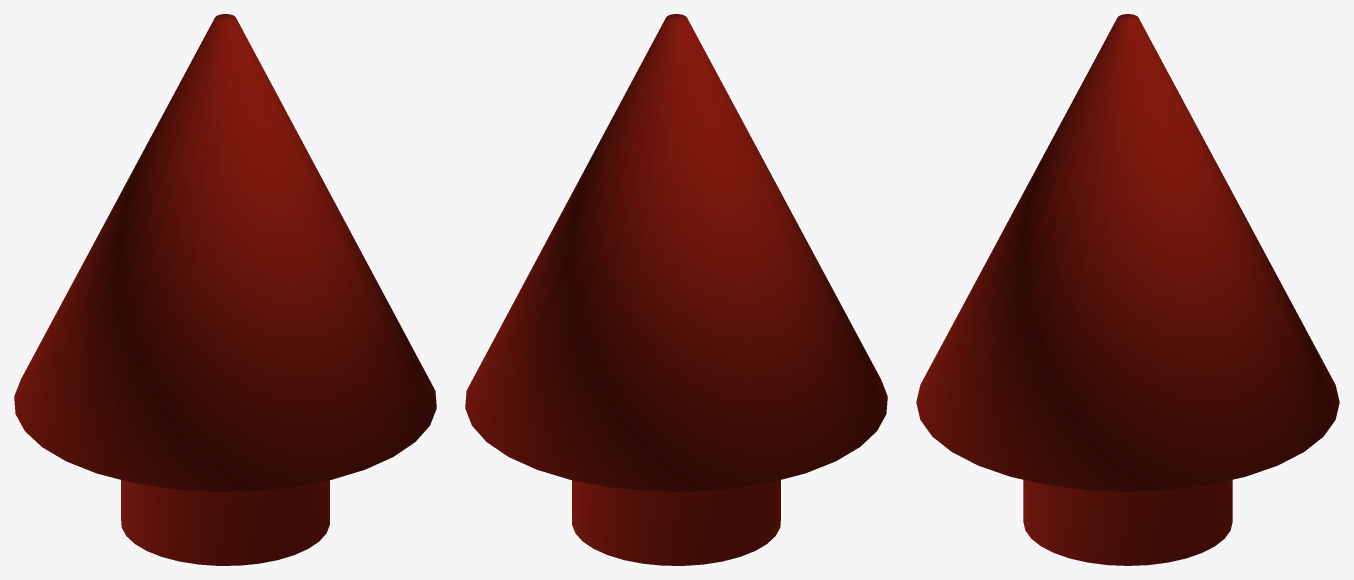
Rendered from bullet.glb.
The picture shows the model from 3 angles, left to right: view 1: azimuth 30°, elevation 25°; view 2: azimuth 150°, elevation 25°; view 3: azimuth 270°, elevation 25°; orthographic projection.
Parts seen in each view (by area): view 1: Cylinder; view 2: Cylinder; view 3: Cylinder.
Boxes of the visible parts, <box> form: Cylinder: <box>14,14,436,565</box>; Cylinder: <box>465,14,887,565</box>; Cylinder: <box>916,14,1339,565</box>.
Size of the model in its own units: 2 by 2.62 by 2.
